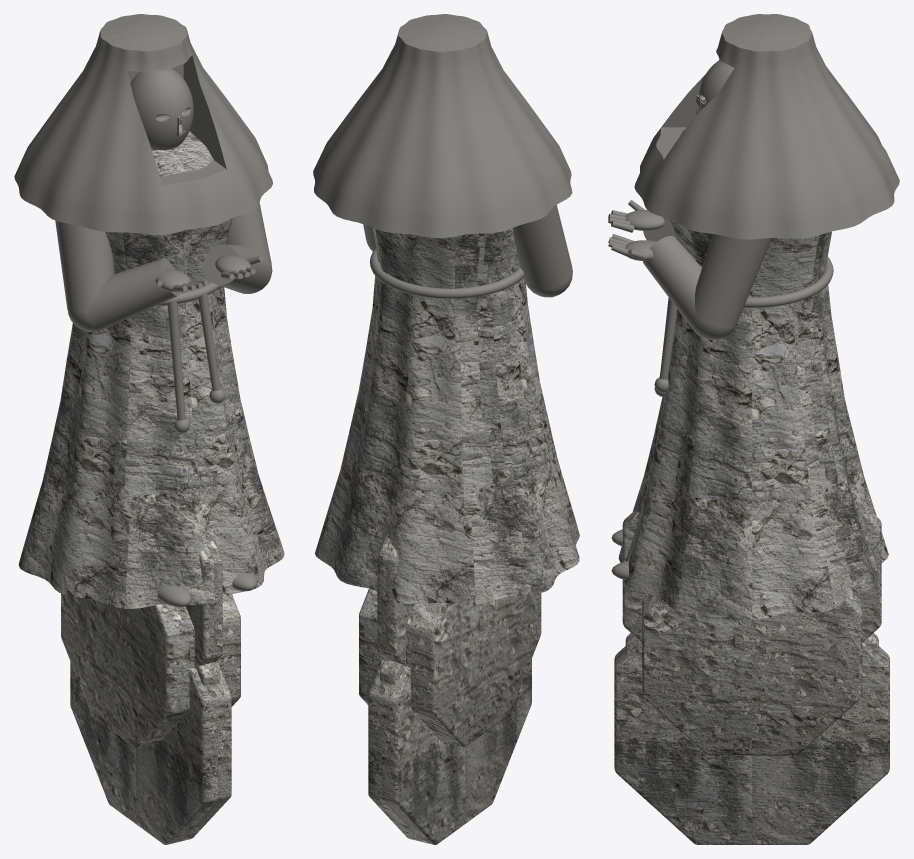
The model's file is saint-statue-v02.glb.
The picture shows the model from 3 angles, left to right: view 1: azimuth 30°, elevation 25°; view 2: azimuth 150°, elevation 25°; view 3: azimuth 270°, elevation 25°; orthographic projection. The views are drawn at different scales.
Parts seen in each view (by area): view 1: saint-statue; view 2: saint-statue; view 3: saint-statue.
Boxes of the visible parts, left/top/right/bottom form: saint-statue: left=14, top=14, right=284, bottom=844; saint-statue: left=313, top=14, right=579, bottom=844; saint-statue: left=608, top=14, right=899, bottom=844.
Bounding box in the file's own units: 0.9079 × 3 × 0.9781.
Materials: 2 (2 with a texture image).
